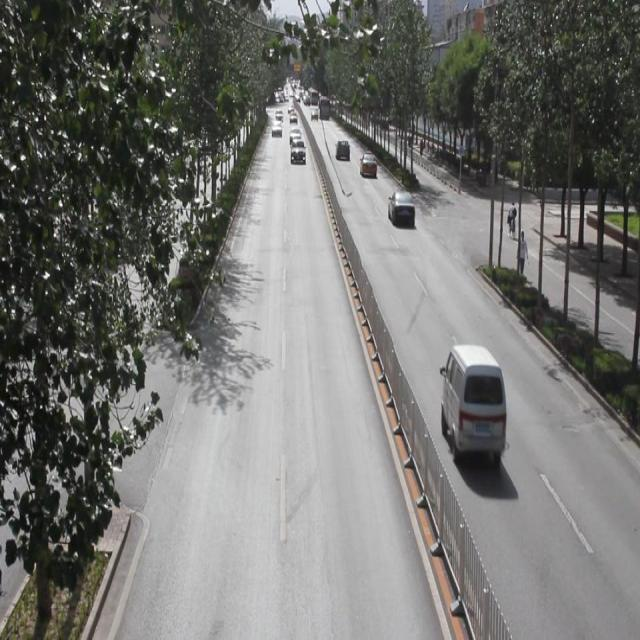car: (386, 190, 414, 228), (358, 152, 377, 177), (290, 137, 305, 164), (335, 137, 350, 162), (288, 124, 301, 145)
truck: (442, 344, 506, 462)
